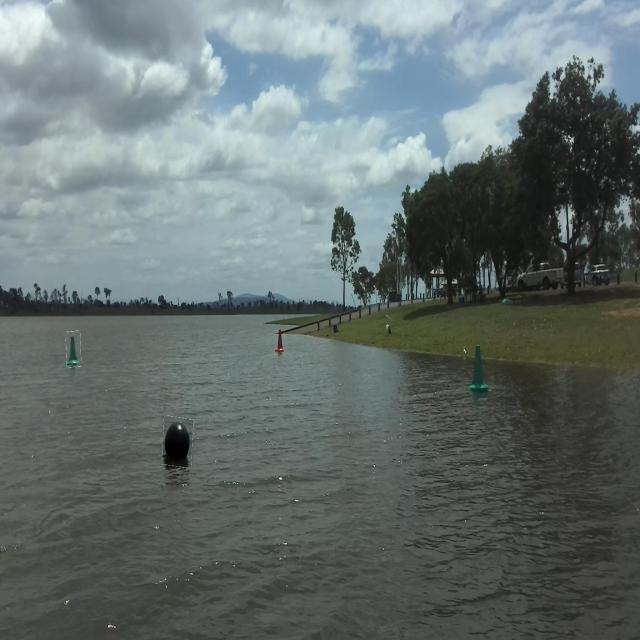Black_Buoy: (162, 409, 199, 484)
Green_Buoy: (468, 335, 492, 402), (66, 326, 84, 380)
Red_Buoy: (272, 328, 288, 365)
